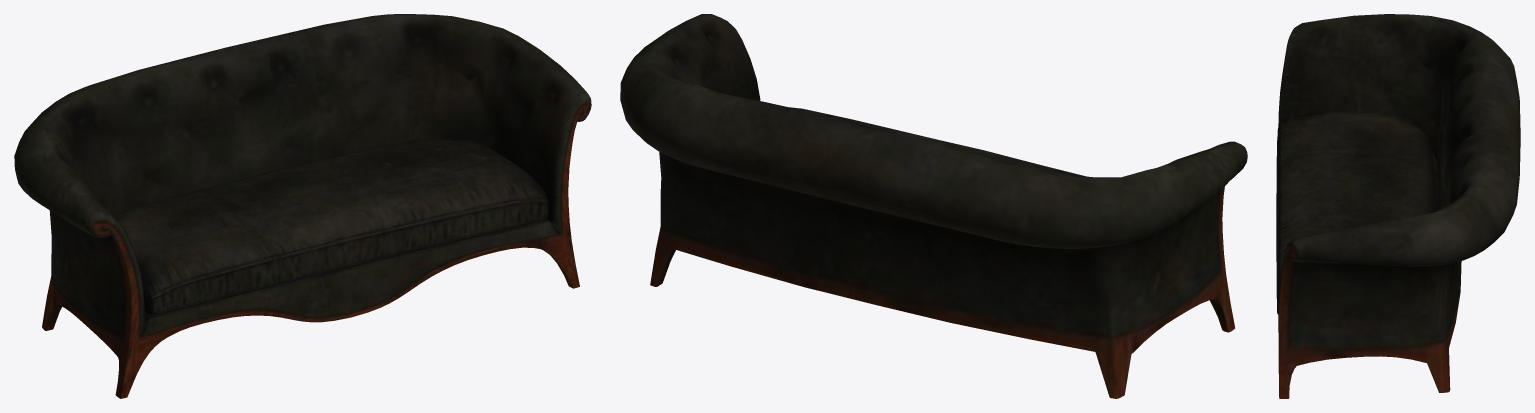
The model's file is sofa_02.glb.
3 renders of one model, left to right at view 1: azimuth 30°, elevation 25°; view 2: azimuth 150°, elevation 25°; view 3: azimuth 270°, elevation 25°, orthographic. The views are drawn at different scales.
Visible parts, largest first — view 1: c08_leather, c09_leather, c06_leather, c07_leather; view 2: c07_leather, c08_leather, c09_leather, c06_leather; view 3: c08_leather, c07_leather, c09_leather, c06_leather, c00_leather.
Part boxes in pixels (left/top/right/bottom): c08_leather: left=14, top=14, right=585, bottom=232; c09_leather: left=115, top=139, right=549, bottom=314; c06_leather: left=46, top=91, right=591, bottom=398; c07_leather: left=42, top=172, right=569, bottom=398; c07_leather: left=650, top=152, right=1235, bottom=398; c08_leather: left=620, top=14, right=1245, bottom=248; c09_leather: left=789, top=107, right=1086, bottom=176; c06_leather: left=657, top=18, right=1247, bottom=332; c08_leather: left=1286, top=14, right=1520, bottom=266; c07_leather: left=1279, top=254, right=1461, bottom=398; c09_leather: left=1276, top=112, right=1433, bottom=314; c06_leather: left=1278, top=24, right=1304, bottom=396; c00_leather: left=1432, top=154, right=1439, bottom=211.
Bounding box in the file's own units: 1.81 × 0.7095 × 0.8178.
Materials: 1 (1 with a texture image).
